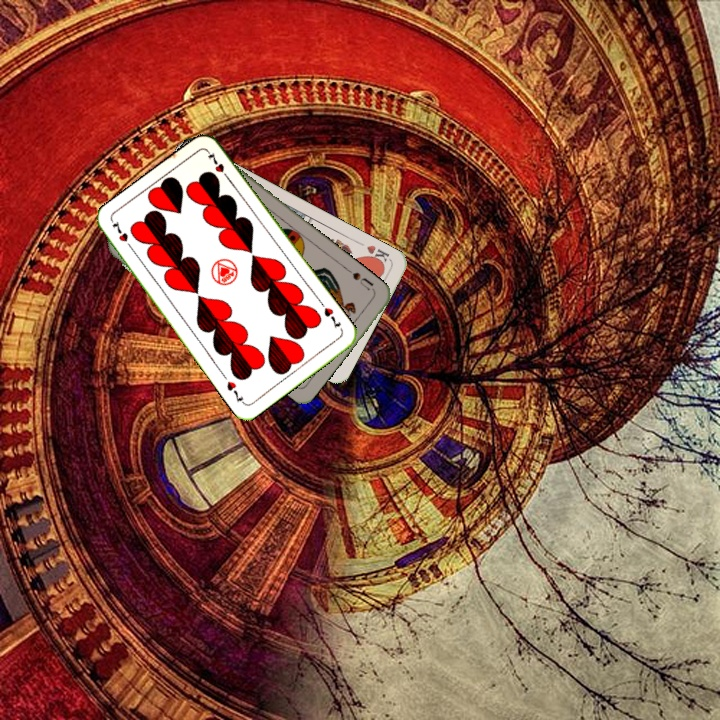H7: (108, 217, 136, 253), (320, 303, 343, 331)
HK: (362, 241, 393, 268)
SU: (349, 268, 378, 295)
